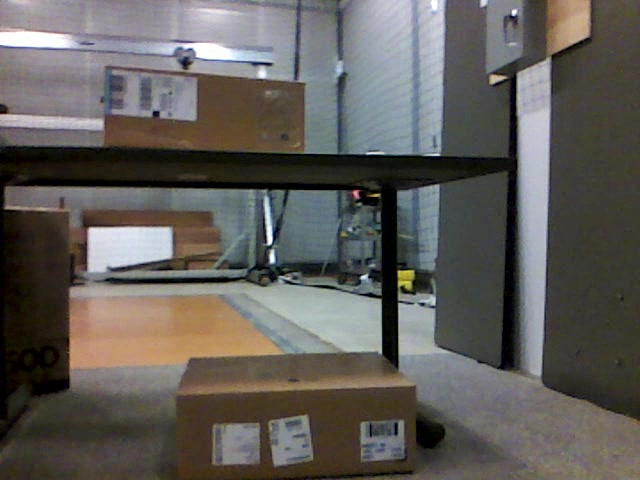box: (177, 352, 415, 480), (105, 64, 305, 150), (5, 205, 71, 392)
